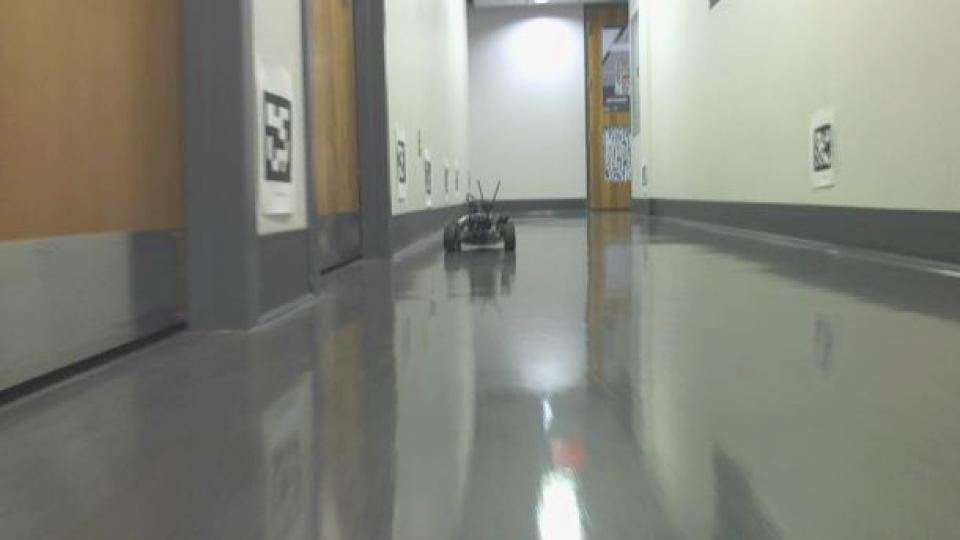car: (441, 177, 521, 259)
